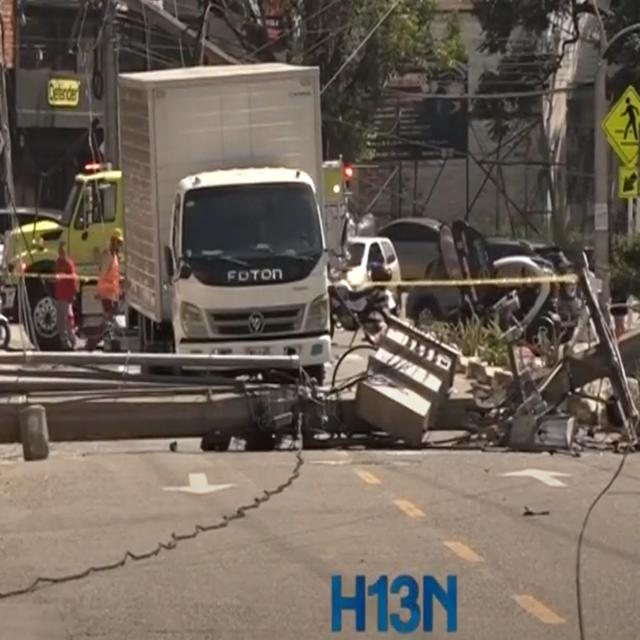Inclined Pole: (0, 270, 640, 460)
